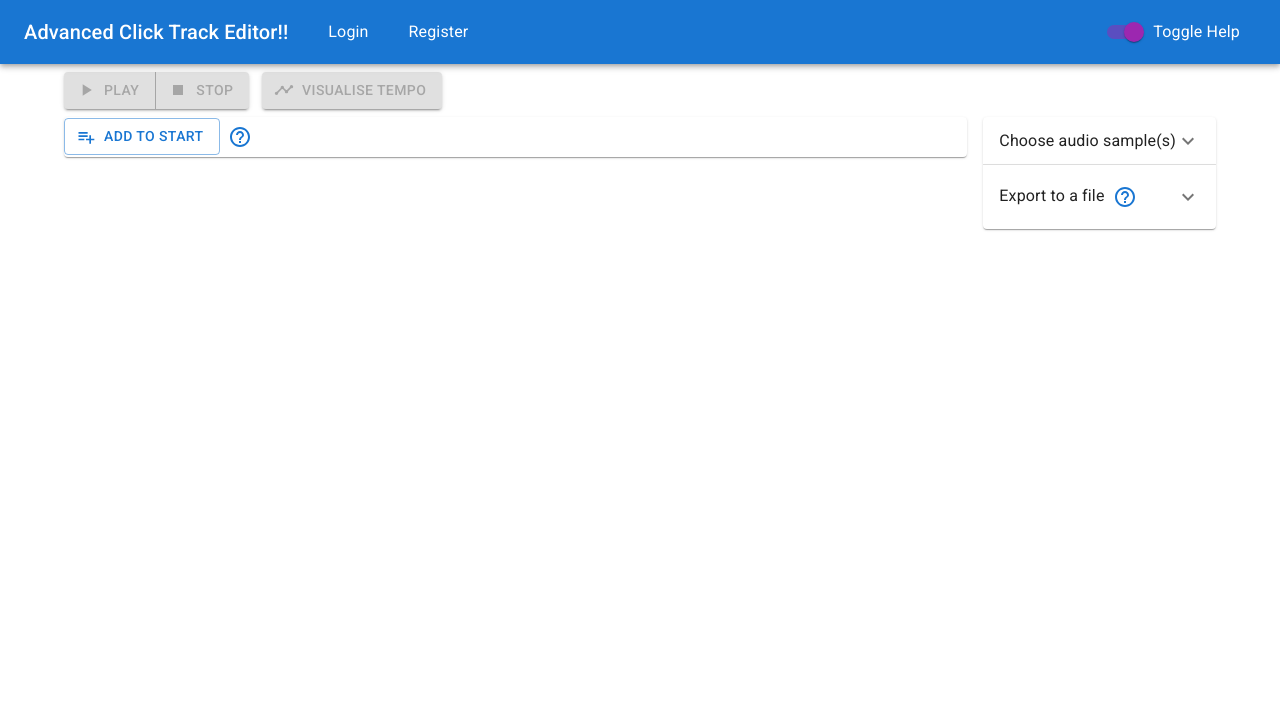
Test: Clicktrack app › User can add section with default values
This screenshot has width=1280, height=720.
Click the button with id "add-to-start" at point(142, 137), box [64,118,220,155]
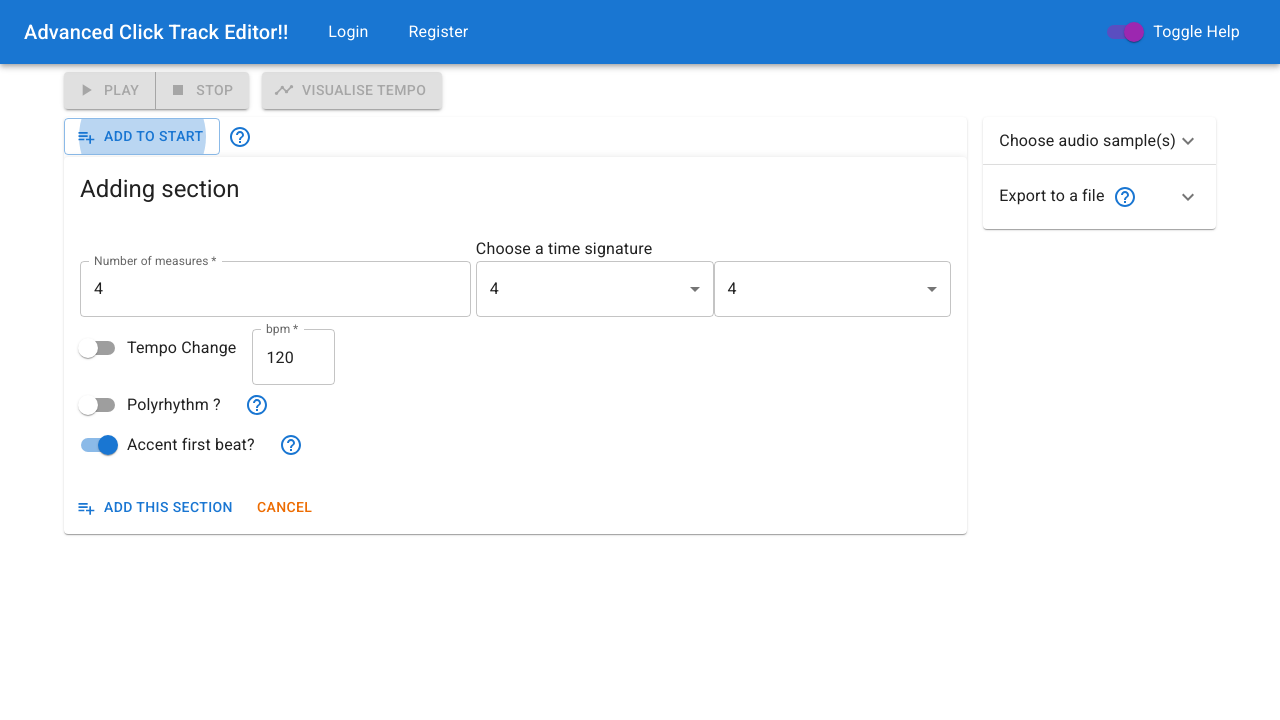
Click the button with class "section-form-submit" at point(157, 508), box [72,489,241,526]
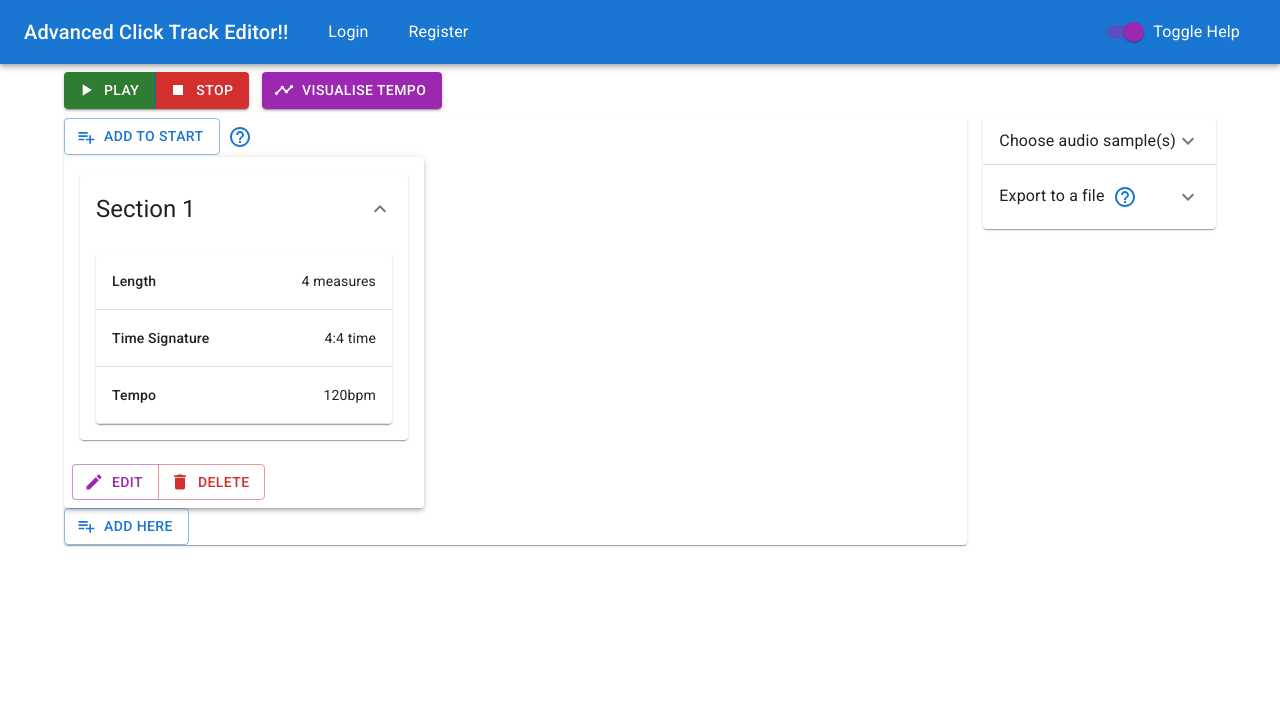
Expected: the heading "Section 1" is shown, [96,192,196,224]
